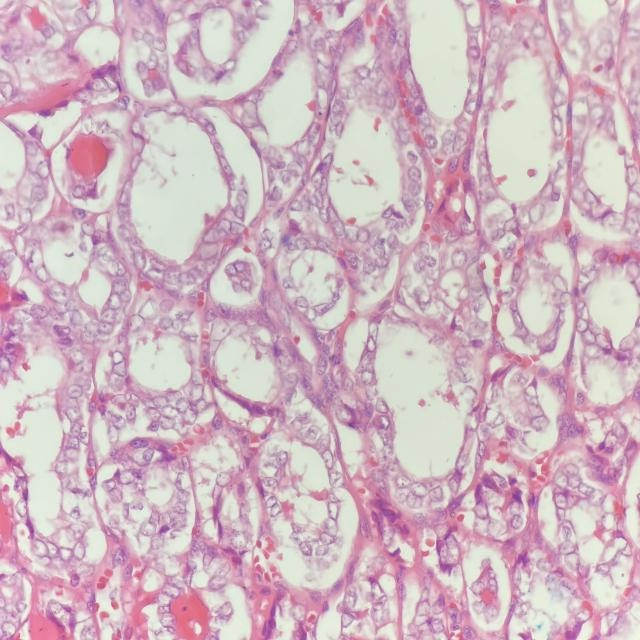TC: (210, 149, 242, 191), (308, 345, 341, 385), (320, 94, 355, 131), (522, 193, 551, 232), (178, 380, 214, 410), (281, 148, 312, 181), (434, 122, 462, 156), (326, 404, 362, 429), (194, 235, 223, 265), (354, 330, 381, 362), (348, 222, 374, 254), (593, 324, 617, 357), (444, 244, 470, 274), (101, 250, 127, 279), (353, 365, 379, 394), (250, 236, 279, 262), (99, 288, 127, 314), (289, 287, 312, 318), (617, 160, 640, 190), (134, 76, 157, 104), (402, 161, 427, 186), (455, 214, 477, 241), (212, 301, 237, 322)
